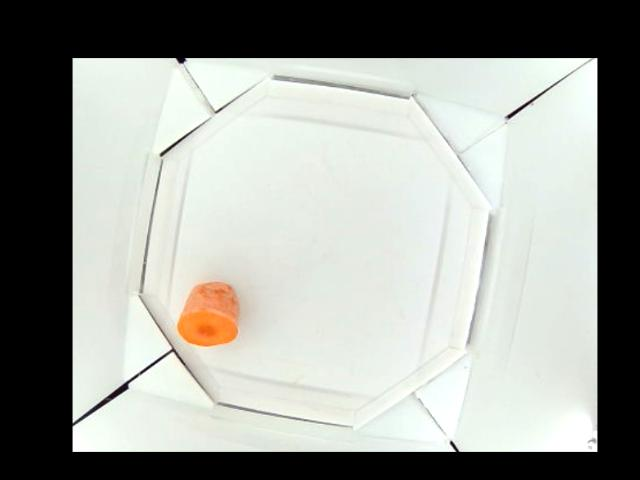Carrot: (175, 281, 240, 347)
